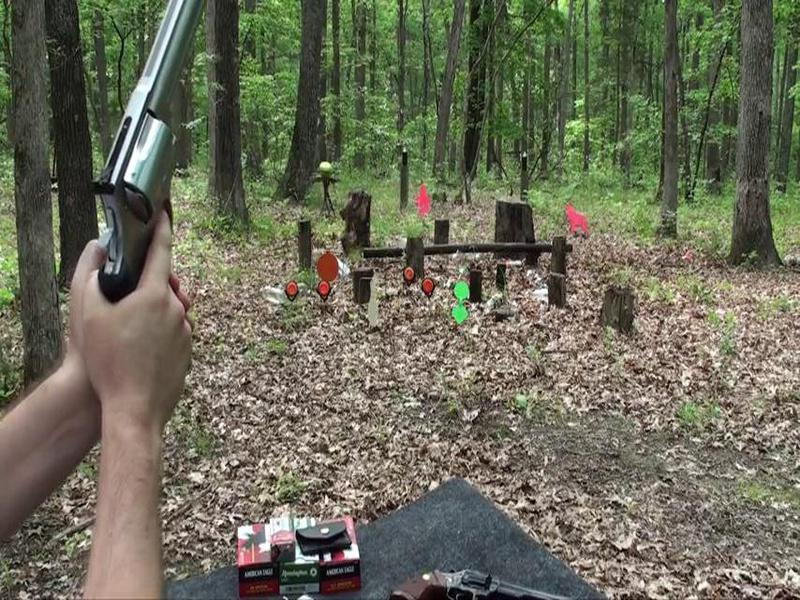Revolver: (57, 1, 218, 315)
